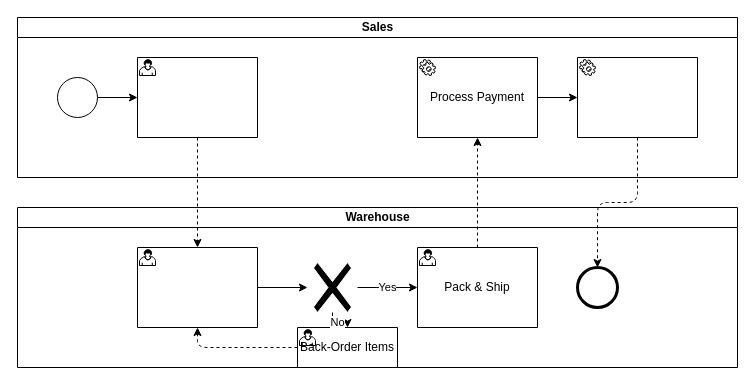
The diagram is 755 pixels wide and 385 high, and some of its shapes have lost their labels. The shapes that lost their labels are listed below. From the top down, each one's centre as x and y in pixels, then its label:
[197,97]: Receive Order
[637,97]: Notify Customer
[197,287]: Check Inventory
